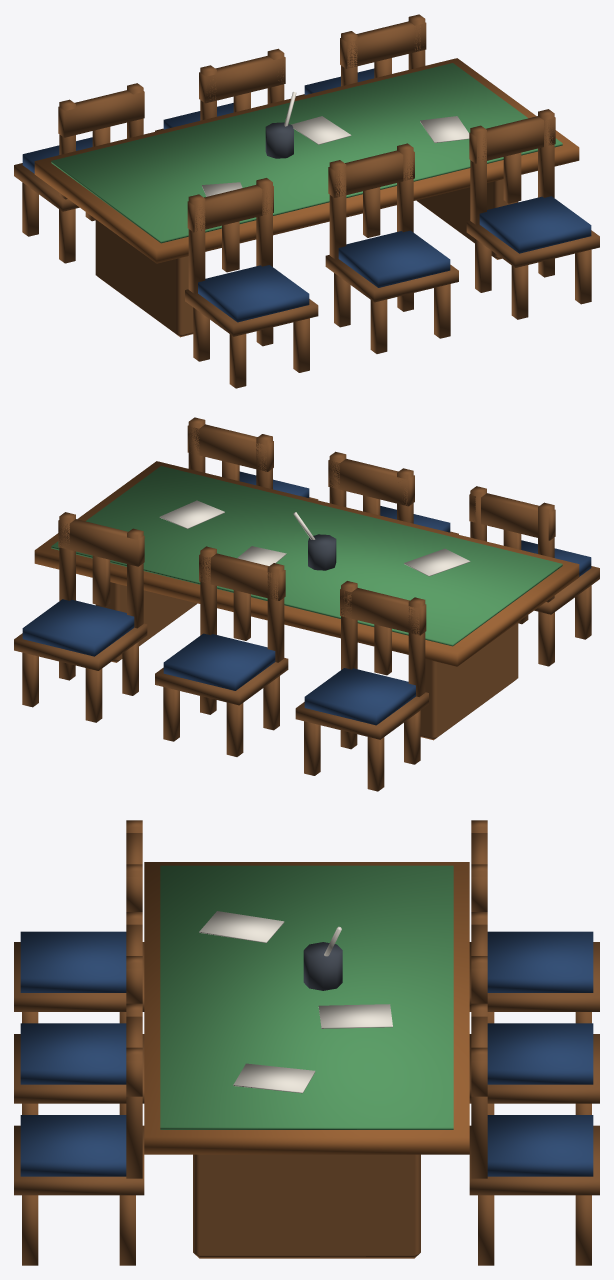
Rendered from meeting_table.glb.
3 views of the same model, one above another, from view 1: azimuth 30°, elevation 25°; view 2: azimuth 150°, elevation 25°; view 3: azimuth 270°, elevation 25° (orthographic). The views are drawn at different scales.
Visible parts, largest first — view 1: meeting_table; view 2: meeting_table; view 3: meeting_table.
Part boxes in pixels (x1=…): meeting_table: x1=14, y1=14, x2=599, y2=388; meeting_table: x1=14, y1=417, x2=599, y2=791; meeting_table: x1=14, y1=820, x2=599, y2=1265.
Bounding box in the file's own units: 2 × 0.7543 × 1.8.
